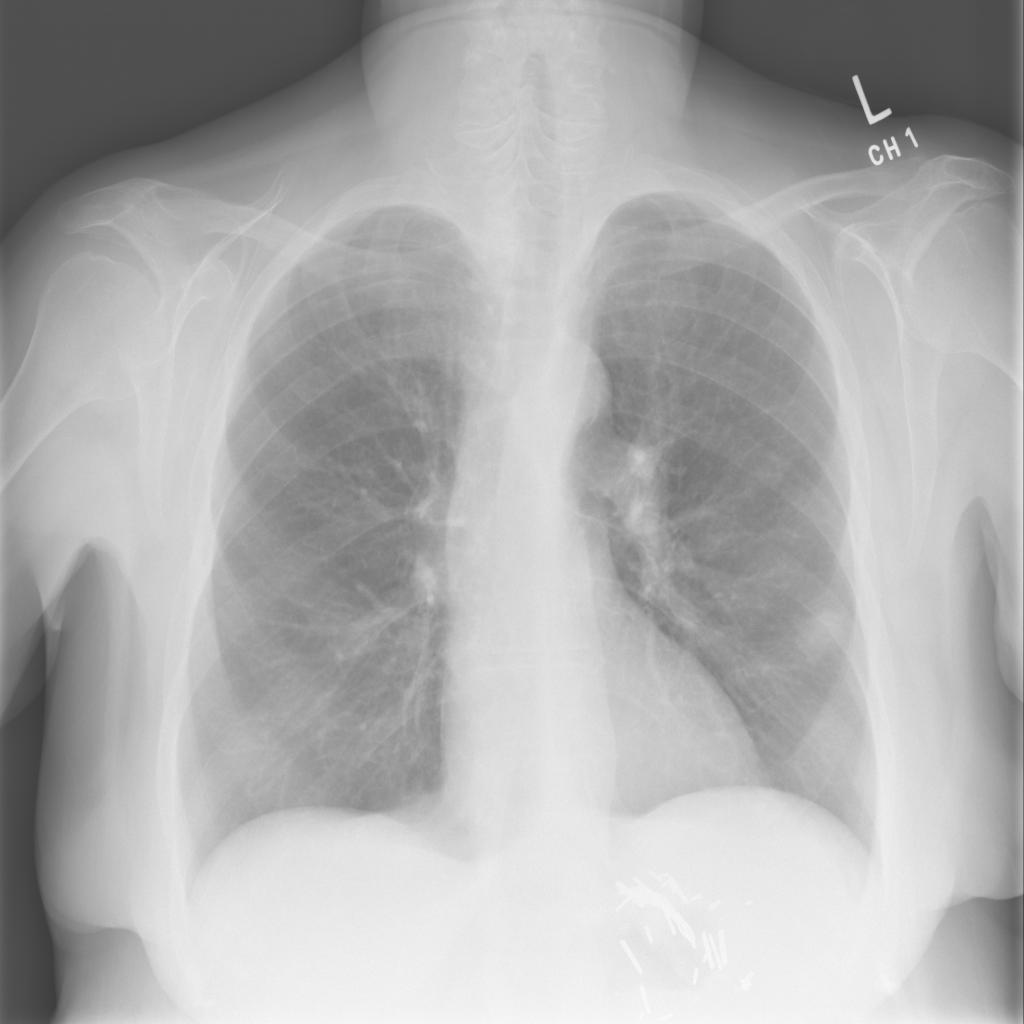Nodule: (112, 212, 132, 238)
